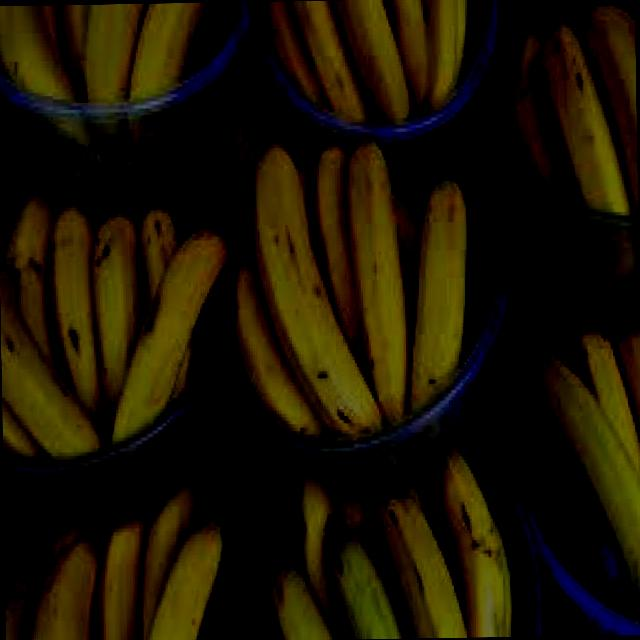Banana: (228, 134, 472, 442), (0, 175, 232, 456), (265, 441, 513, 638), (0, 2, 211, 188), (2, 473, 224, 640), (524, 293, 640, 610), (508, 0, 636, 217), (260, 0, 469, 127)
